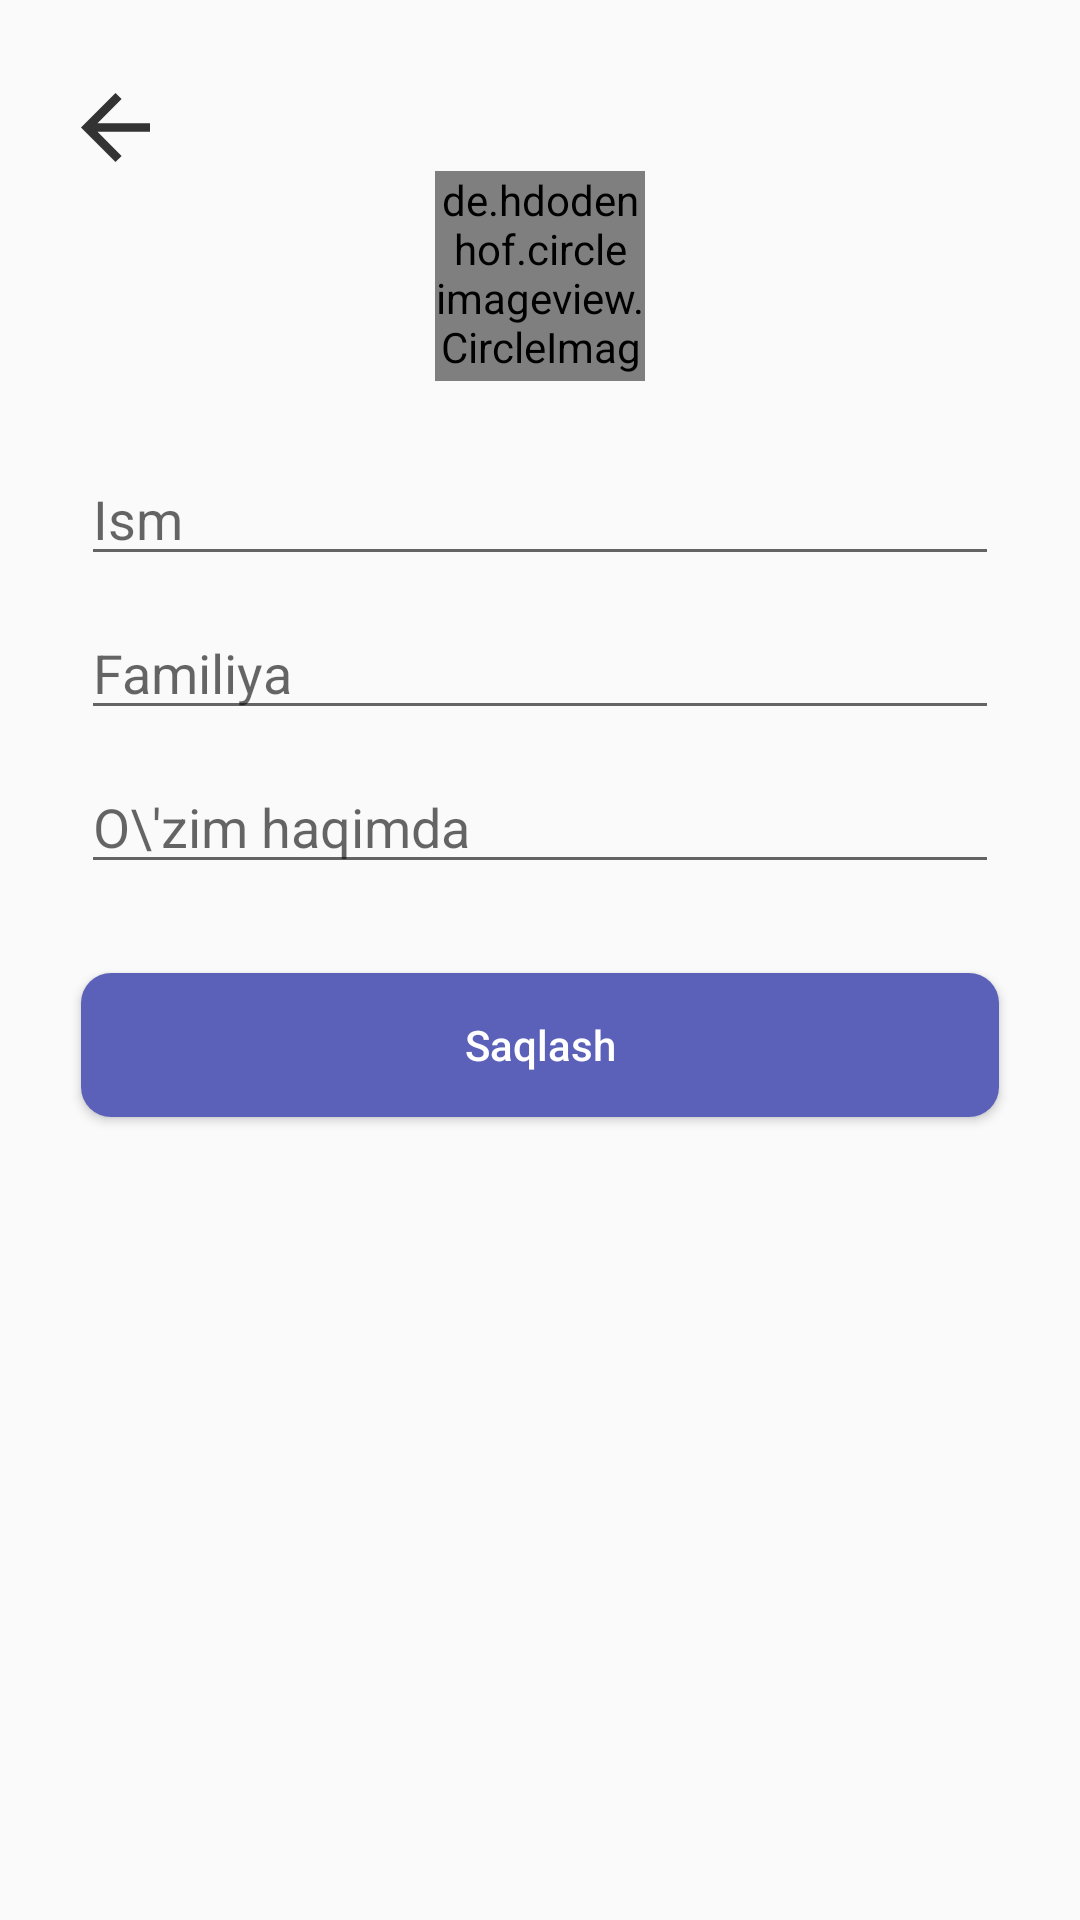

Named icons in this screenshot (1080x1920) and their bounding boxes, (x1, y1, x2, y2):
back: (81, 93, 150, 162)
